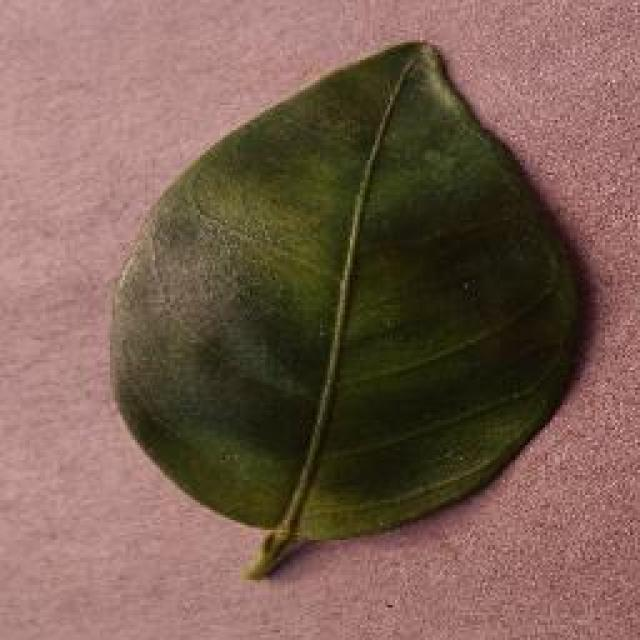Orange_Haunglongbing_Citrus_greening: (153, 135, 522, 506)
